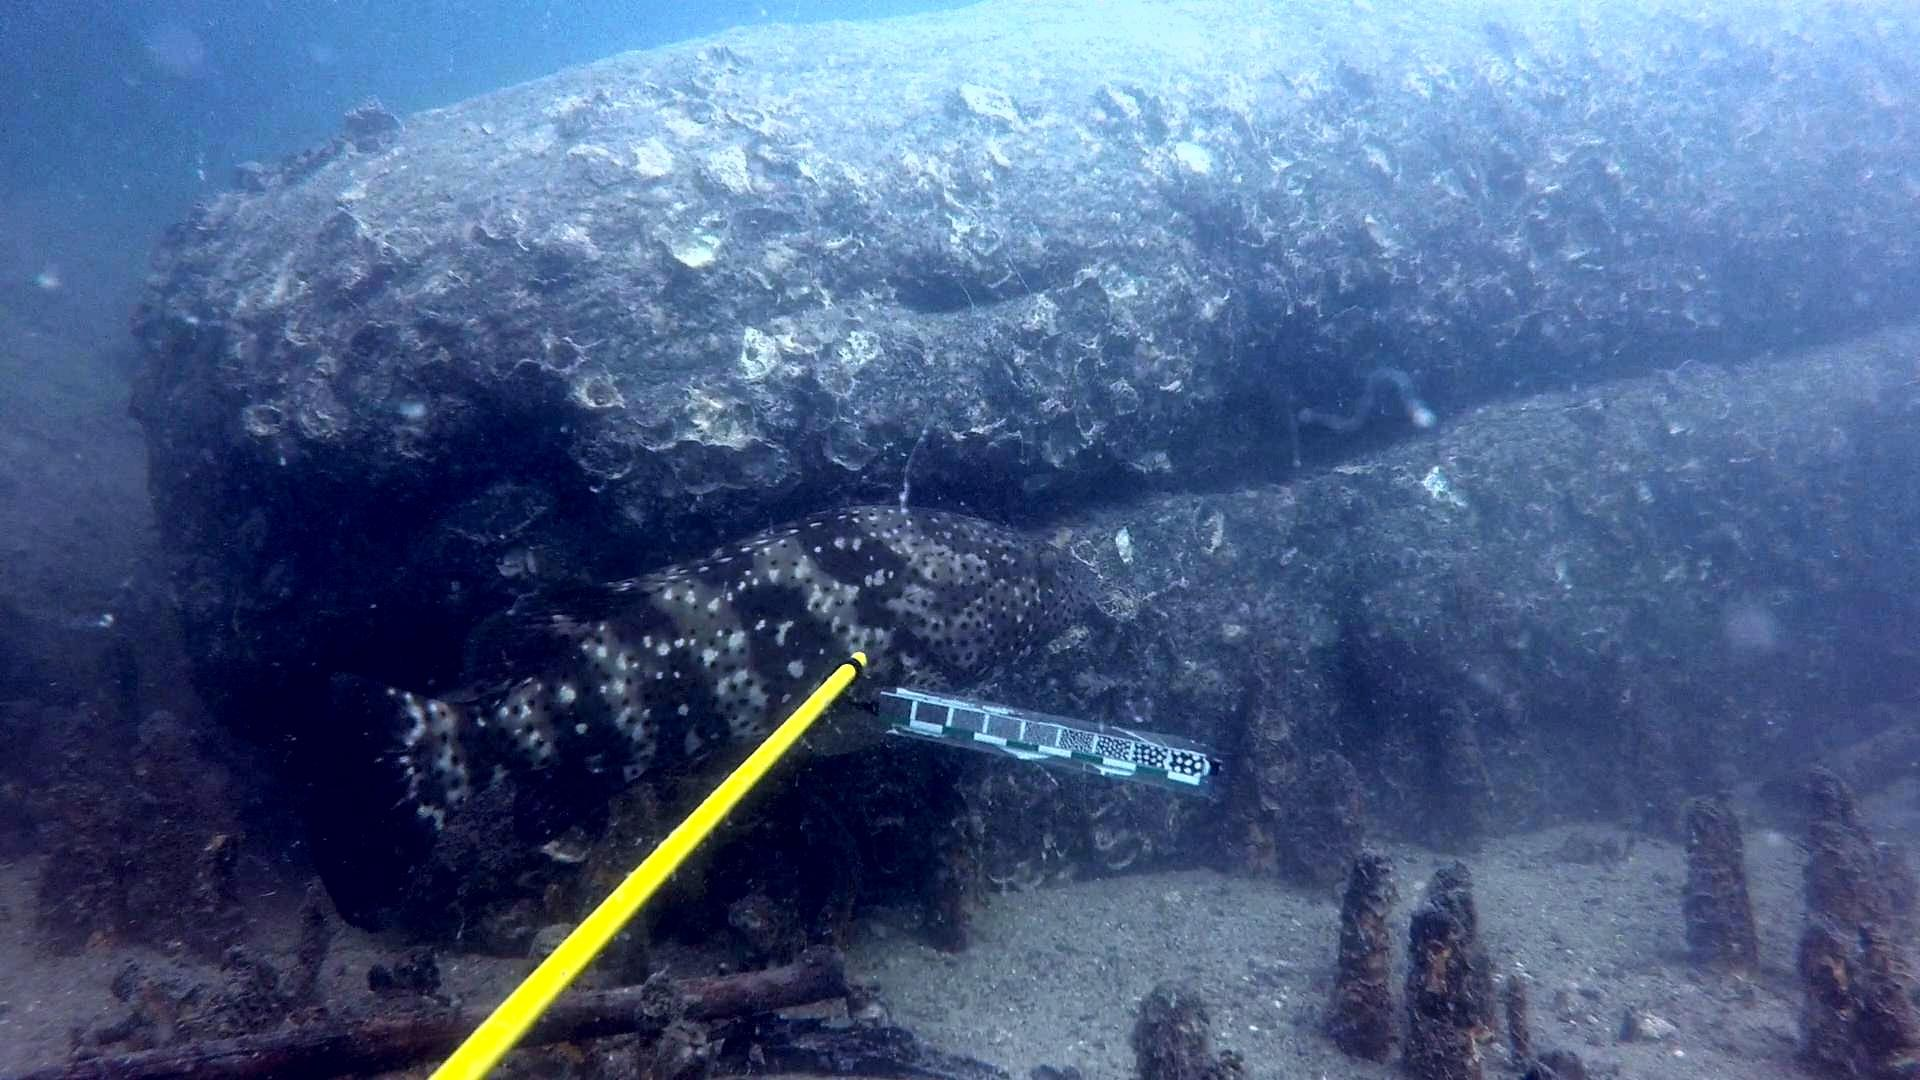epinephelus: (303, 501, 1108, 939)
